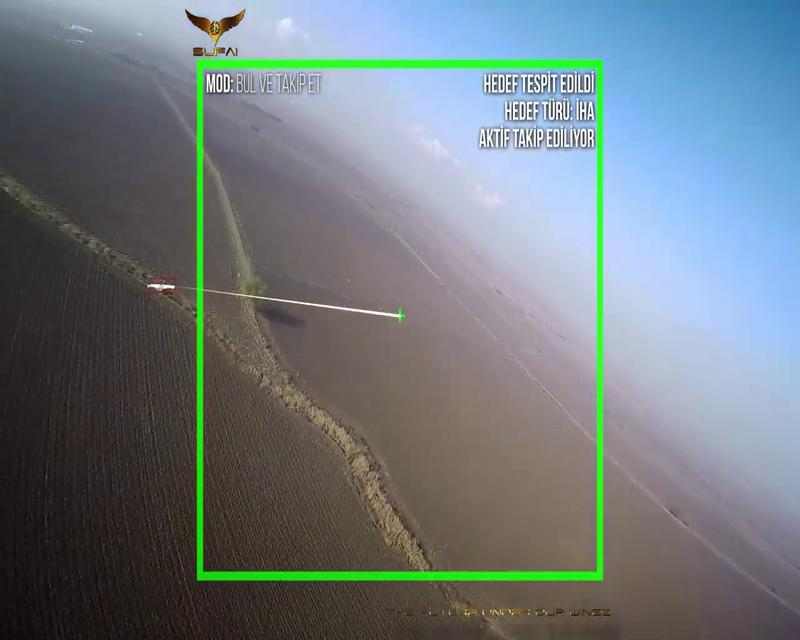UAV: (145, 281, 177, 294)
